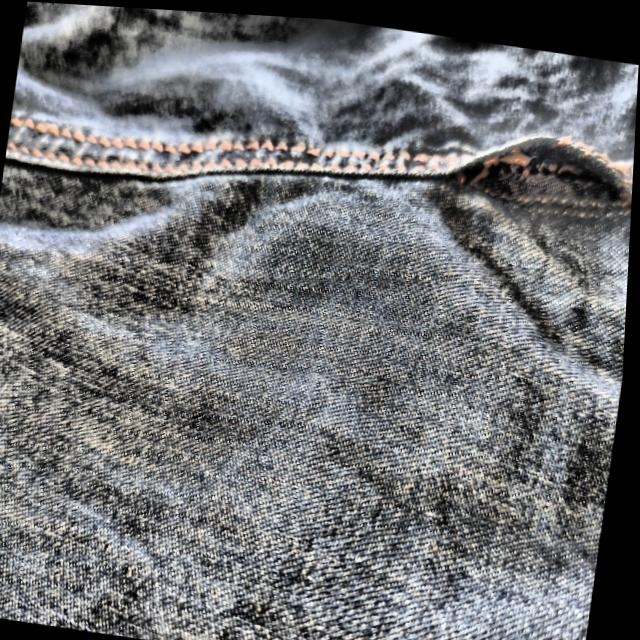seam: (438, 96, 635, 241)
